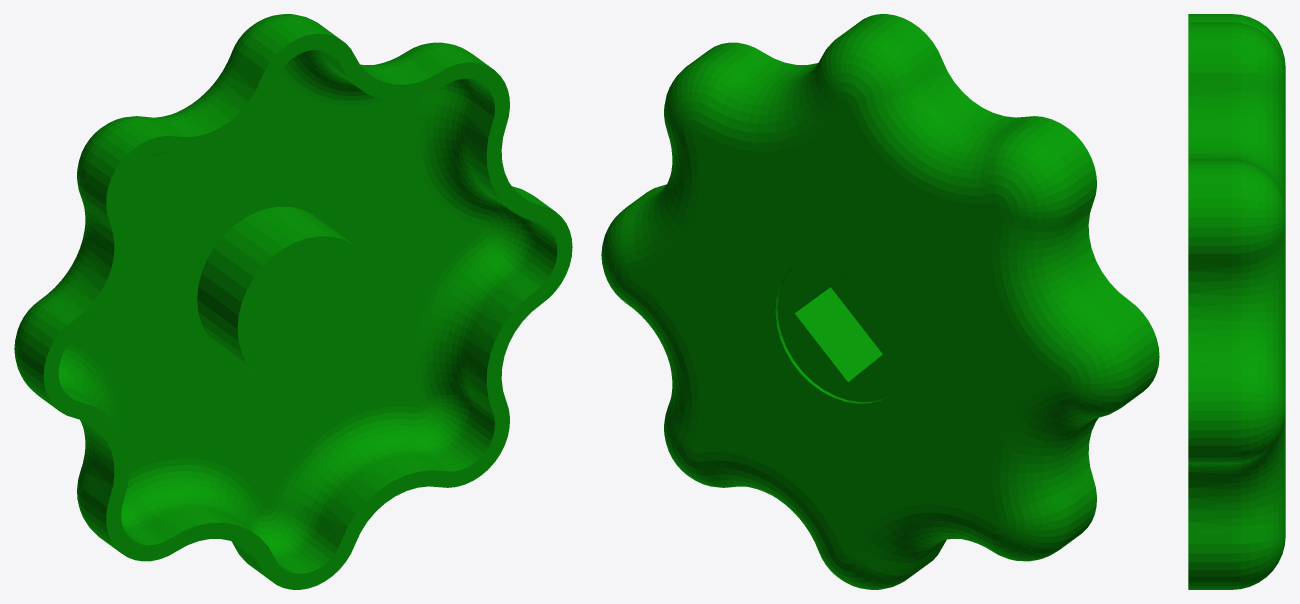
Rendered from hand_wheel_valve.dae.
3 views of the same model, side by side, from view 1: azimuth 30°, elevation 25°; view 2: azimuth 150°, elevation 25°; view 3: azimuth 270°, elevation 25° (orthographic).
Visible parts, largest first — view 1: skp46D1 (×3); view 2: skp46D1 (×3); view 3: skp46D1.
Part boxes in pixels (x1,y1,x2,y2): skp46D1 (×3): [14, 14, 572, 589]; skp46D1 (×3): [601, 14, 1159, 589]; skp46D1: [1188, 14, 1285, 589].
Size of the model in its own units: 3.5 by 0.563 by 3.5.
